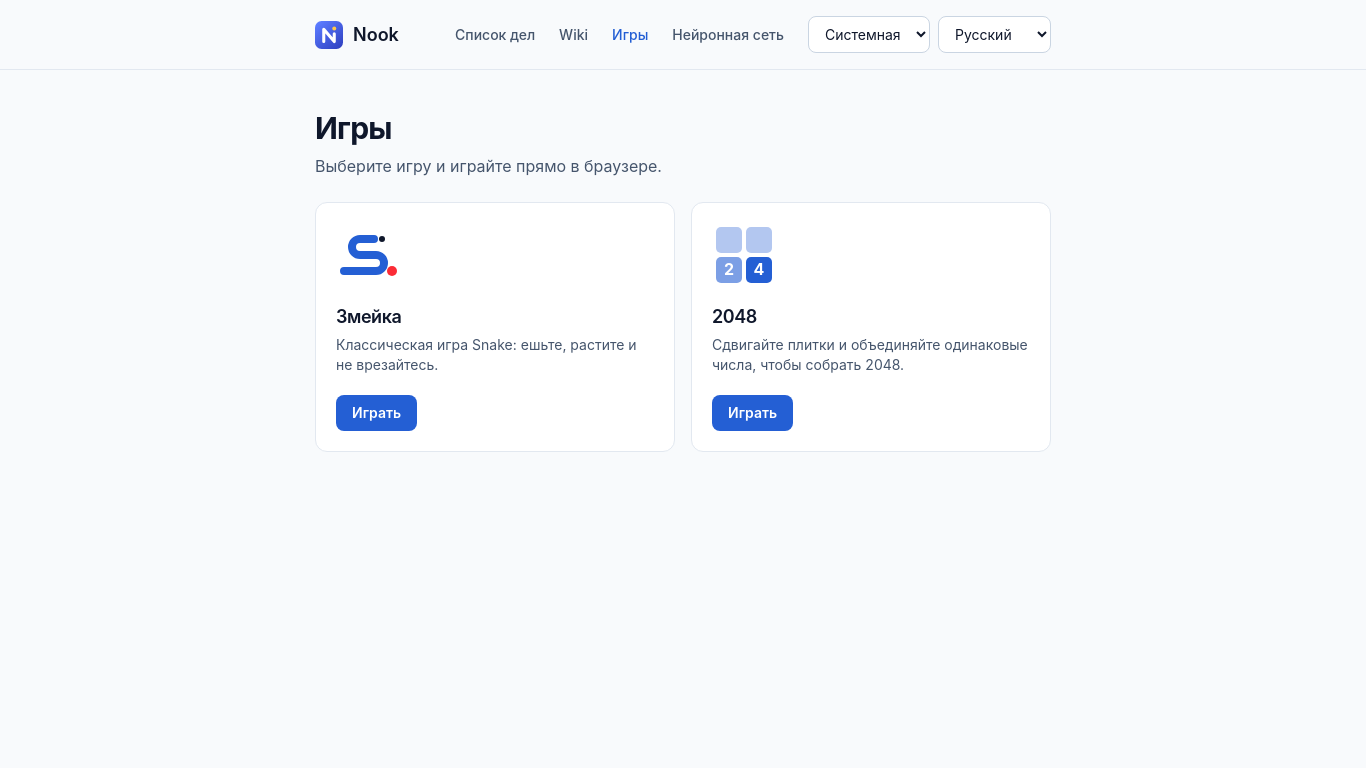
Test: games pages › opens Snake from its card and returns to the catalog
What coordinates should you click on to do the following:
click the link with aria-label "играть: змейка"
I would click on:
 (377, 413)
Its box is [336,395,417,431].
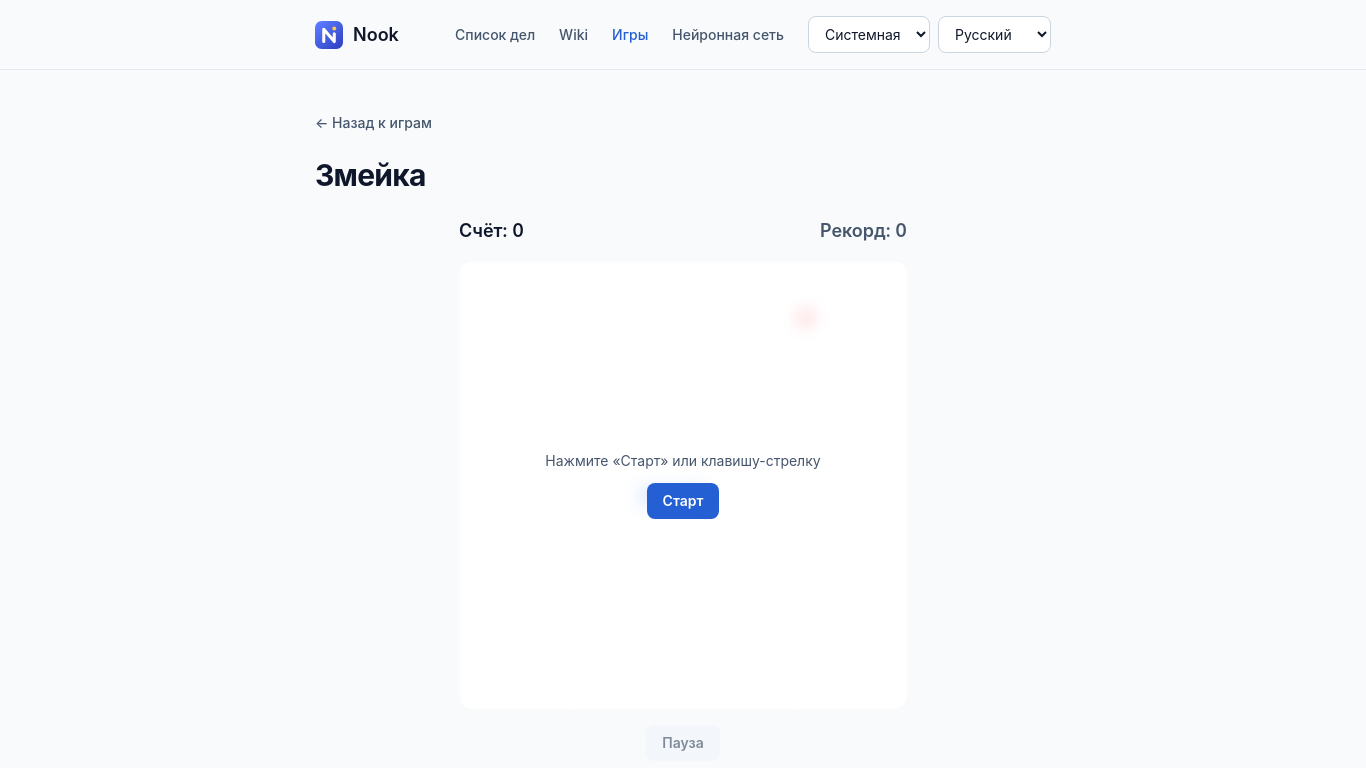
Result: the heading "Змейка" is shown at [315,157,426,193]
Result: the picture named "Игровое поле" is shown at [459,261,907,709]
Result: the text "Счёт: 0" is shown at [459,217,524,245]
What coordinates should you click on to do the following:
click the link "← Назад к играм"
I would click on:
 (374, 123)
Its box is [315,113,432,133].
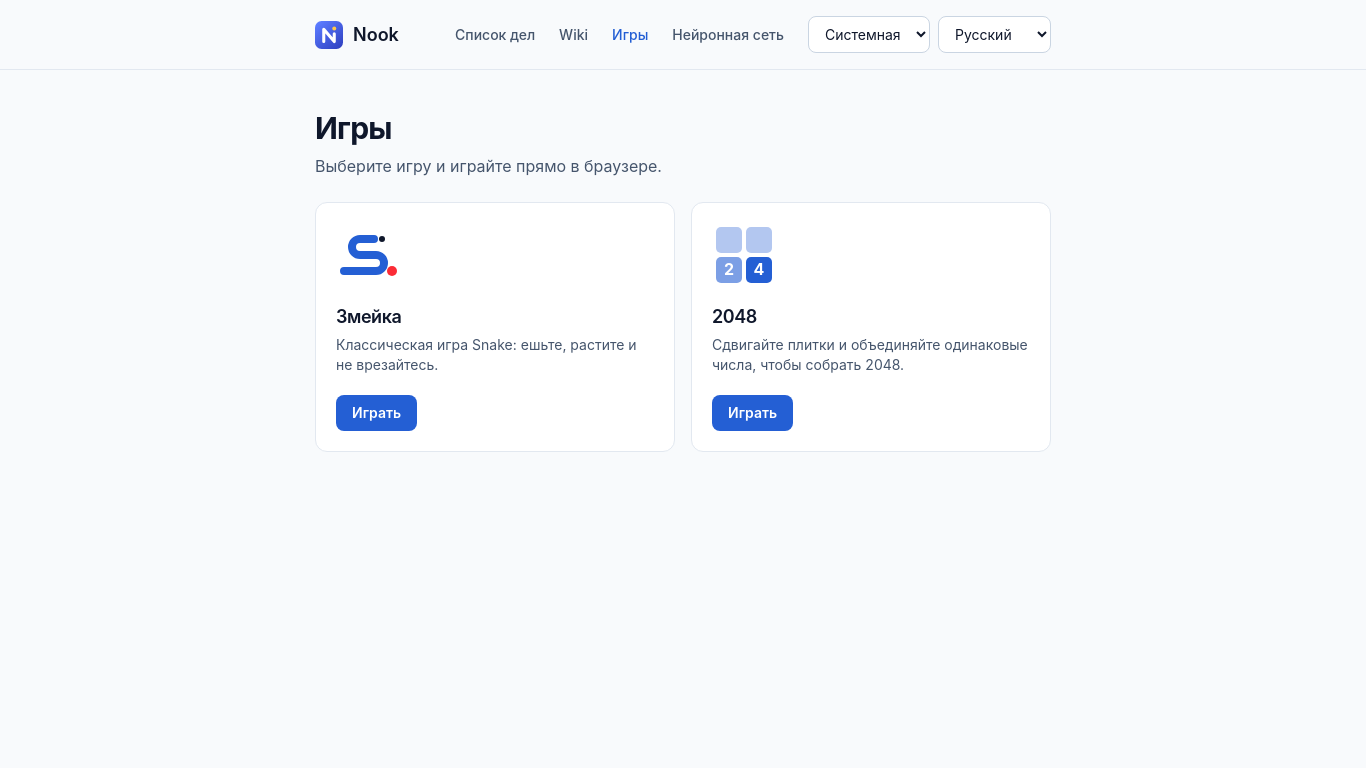
Result: the heading "Игры" is shown at [315,110,392,146]
